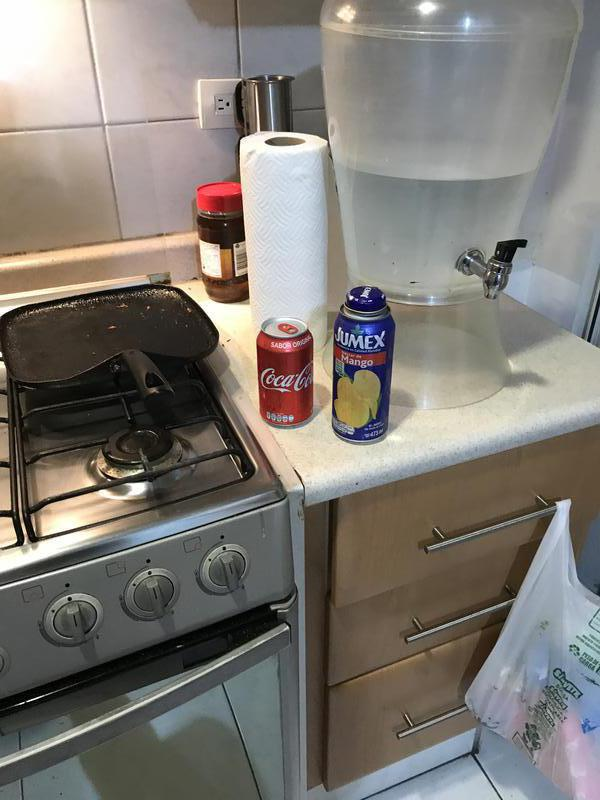coca_cola: (256, 314, 315, 430)
jugo_jumex: (331, 287, 395, 443)
